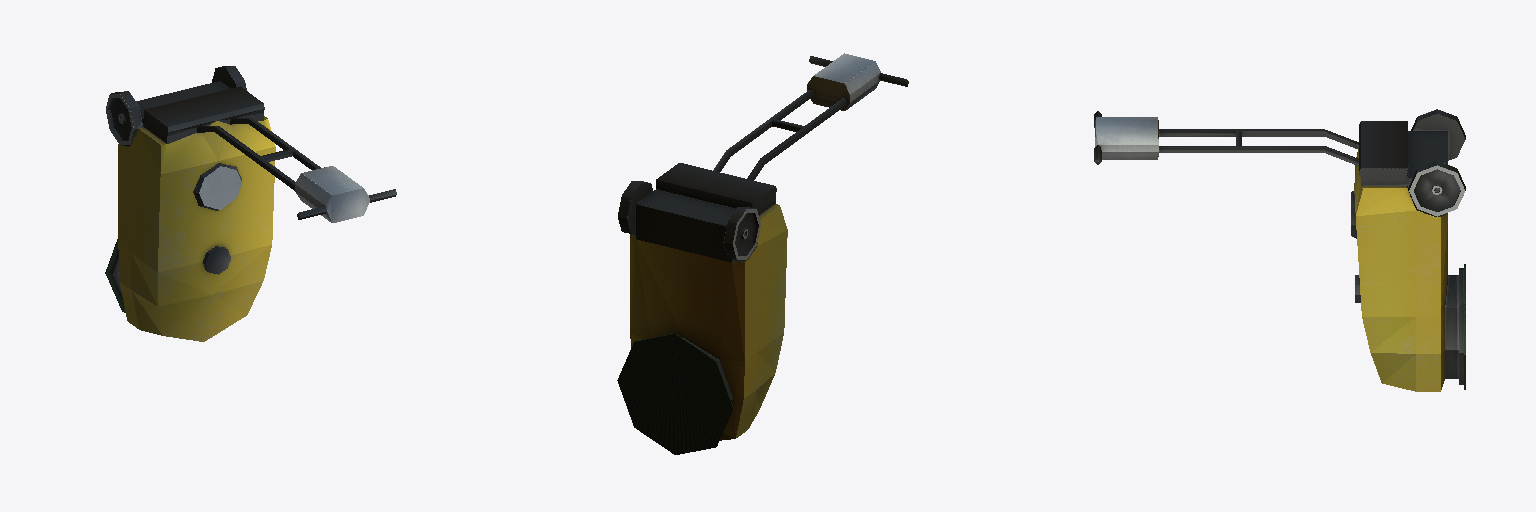
The picture shows the model from 3 angles: view 1: azimuth 30°, elevation 25°; view 2: azimuth 150°, elevation 25°; view 3: azimuth 270°, elevation 25°; orthographic projection.
Parts seen in each view (by area): view 1: scrubber_scrubber_Cube.002; view 2: scrubber_scrubber_Cube.002; view 3: scrubber_scrubber_Cube.002.
Part boxes in pixels (bbox=[...]): scrubber_scrubber_Cube.002: bbox=[105, 66, 396, 341]; scrubber_scrubber_Cube.002: bbox=[617, 53, 908, 454]; scrubber_scrubber_Cube.002: bbox=[1094, 109, 1465, 391].
Size of the model in its own units: 0.3785 by 0.8197 by 1.05.
1 materials, 1 textured.